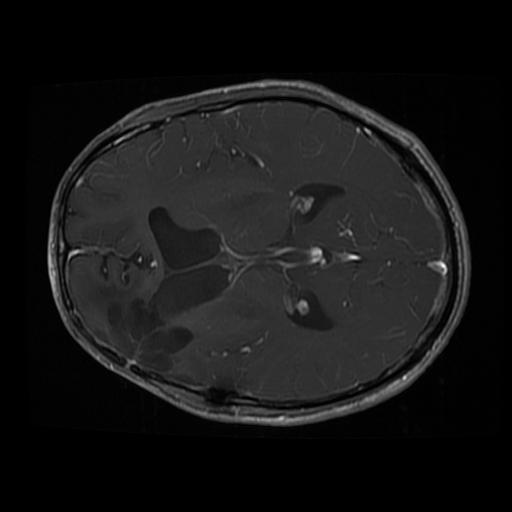glioma: (94, 296, 194, 373)
